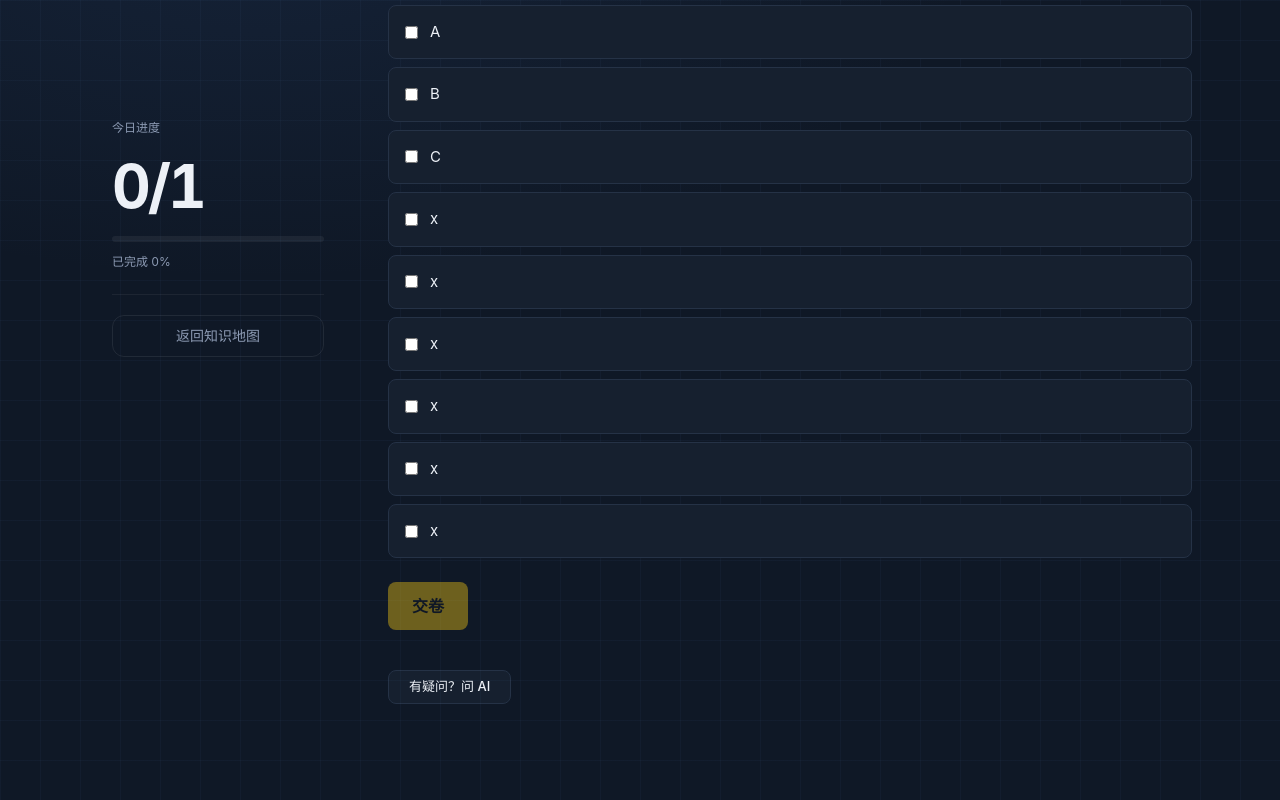
Test: 离线时不发请求，直接提示恢复联网
(page scrolled)
Step 1. Click the button "有疑问？问 AI" → (450, 687), box x1=388 y1=670 x2=511 y2=704
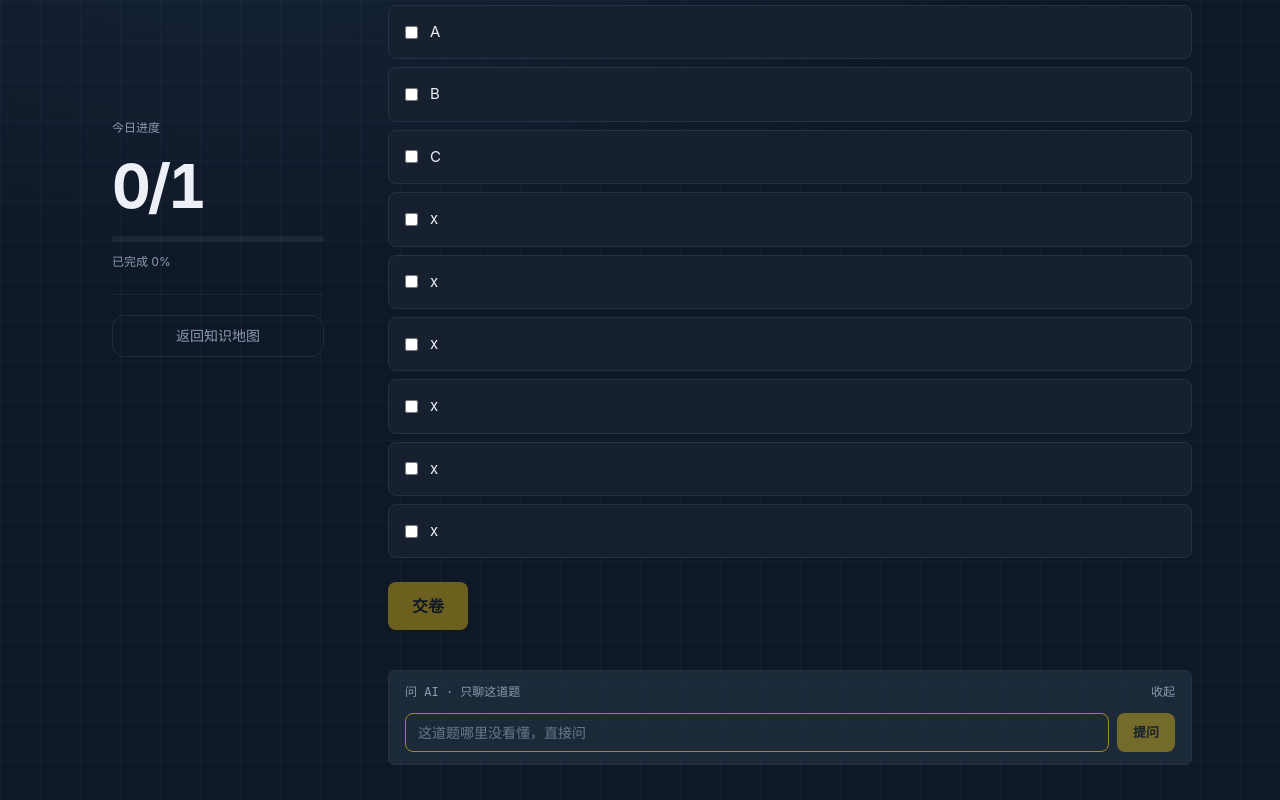
Step 2. Type "离线提问" into the field named "向 AI 提问" → (757, 733), box x1=405 y1=713 x2=1109 y2=752
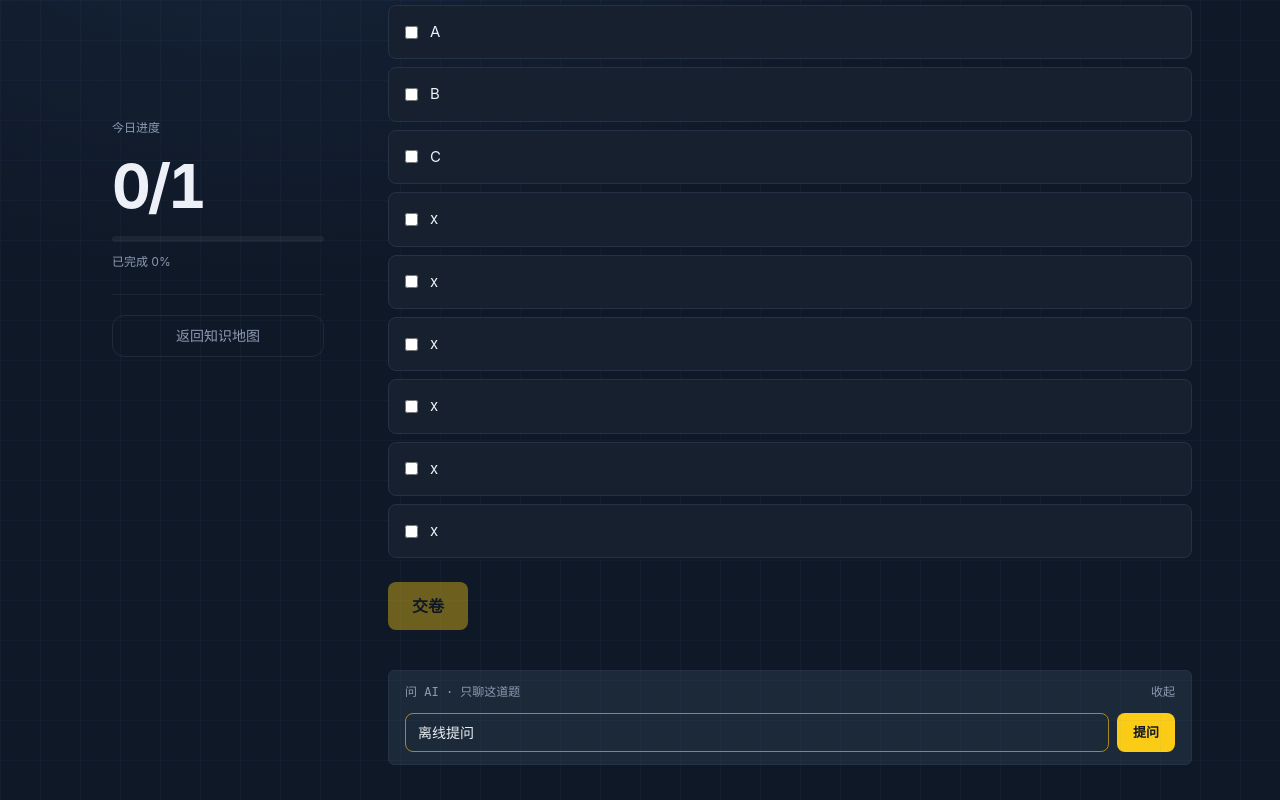
Step 3. Click the button "提问" → (1146, 733), box x1=1117 y1=713 x2=1175 y2=752
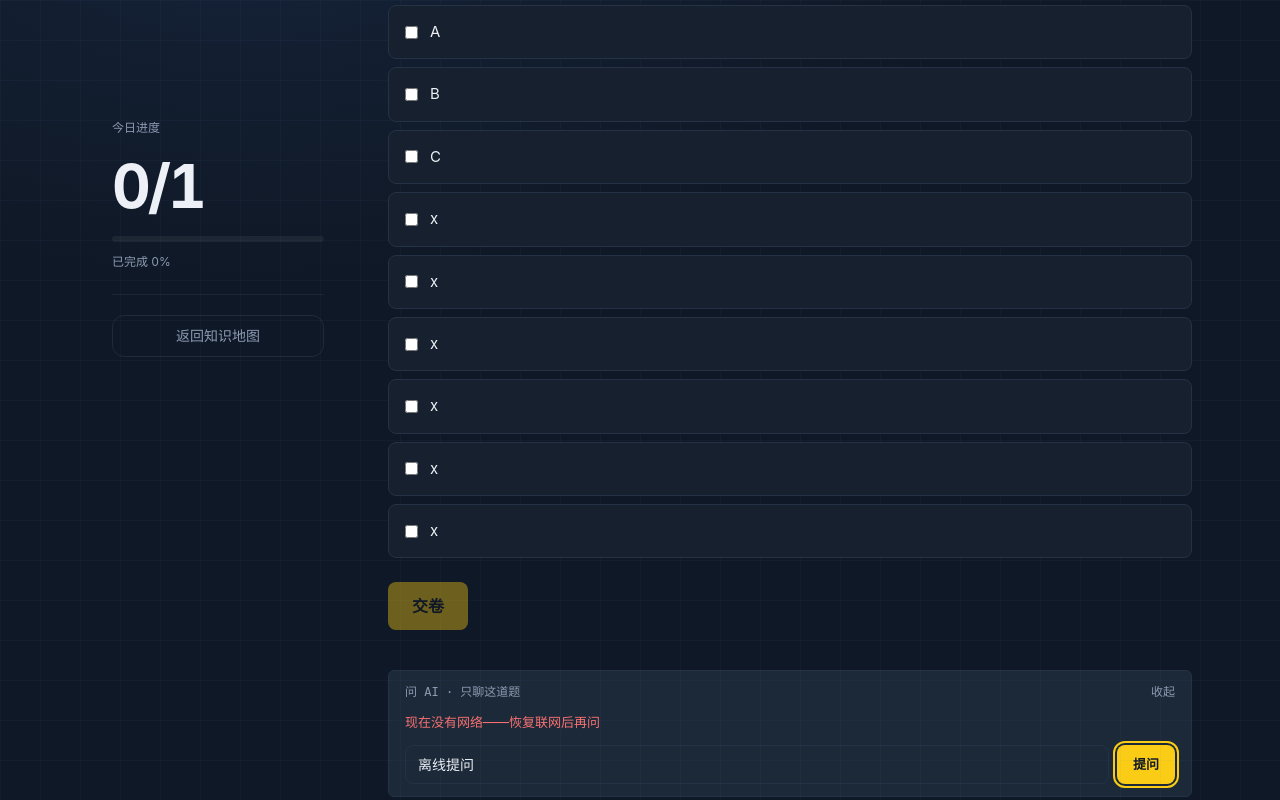
Check: the message shows "现在没有网络", box x1=405 y1=714 x2=600 y2=730
